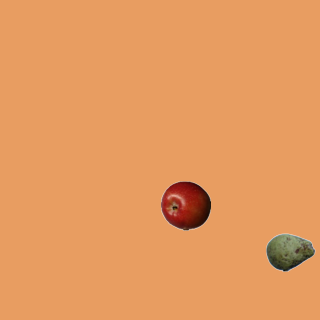Apple Braeburn: (160, 180, 210, 230)
Pear Stone: (265, 227, 315, 277)
